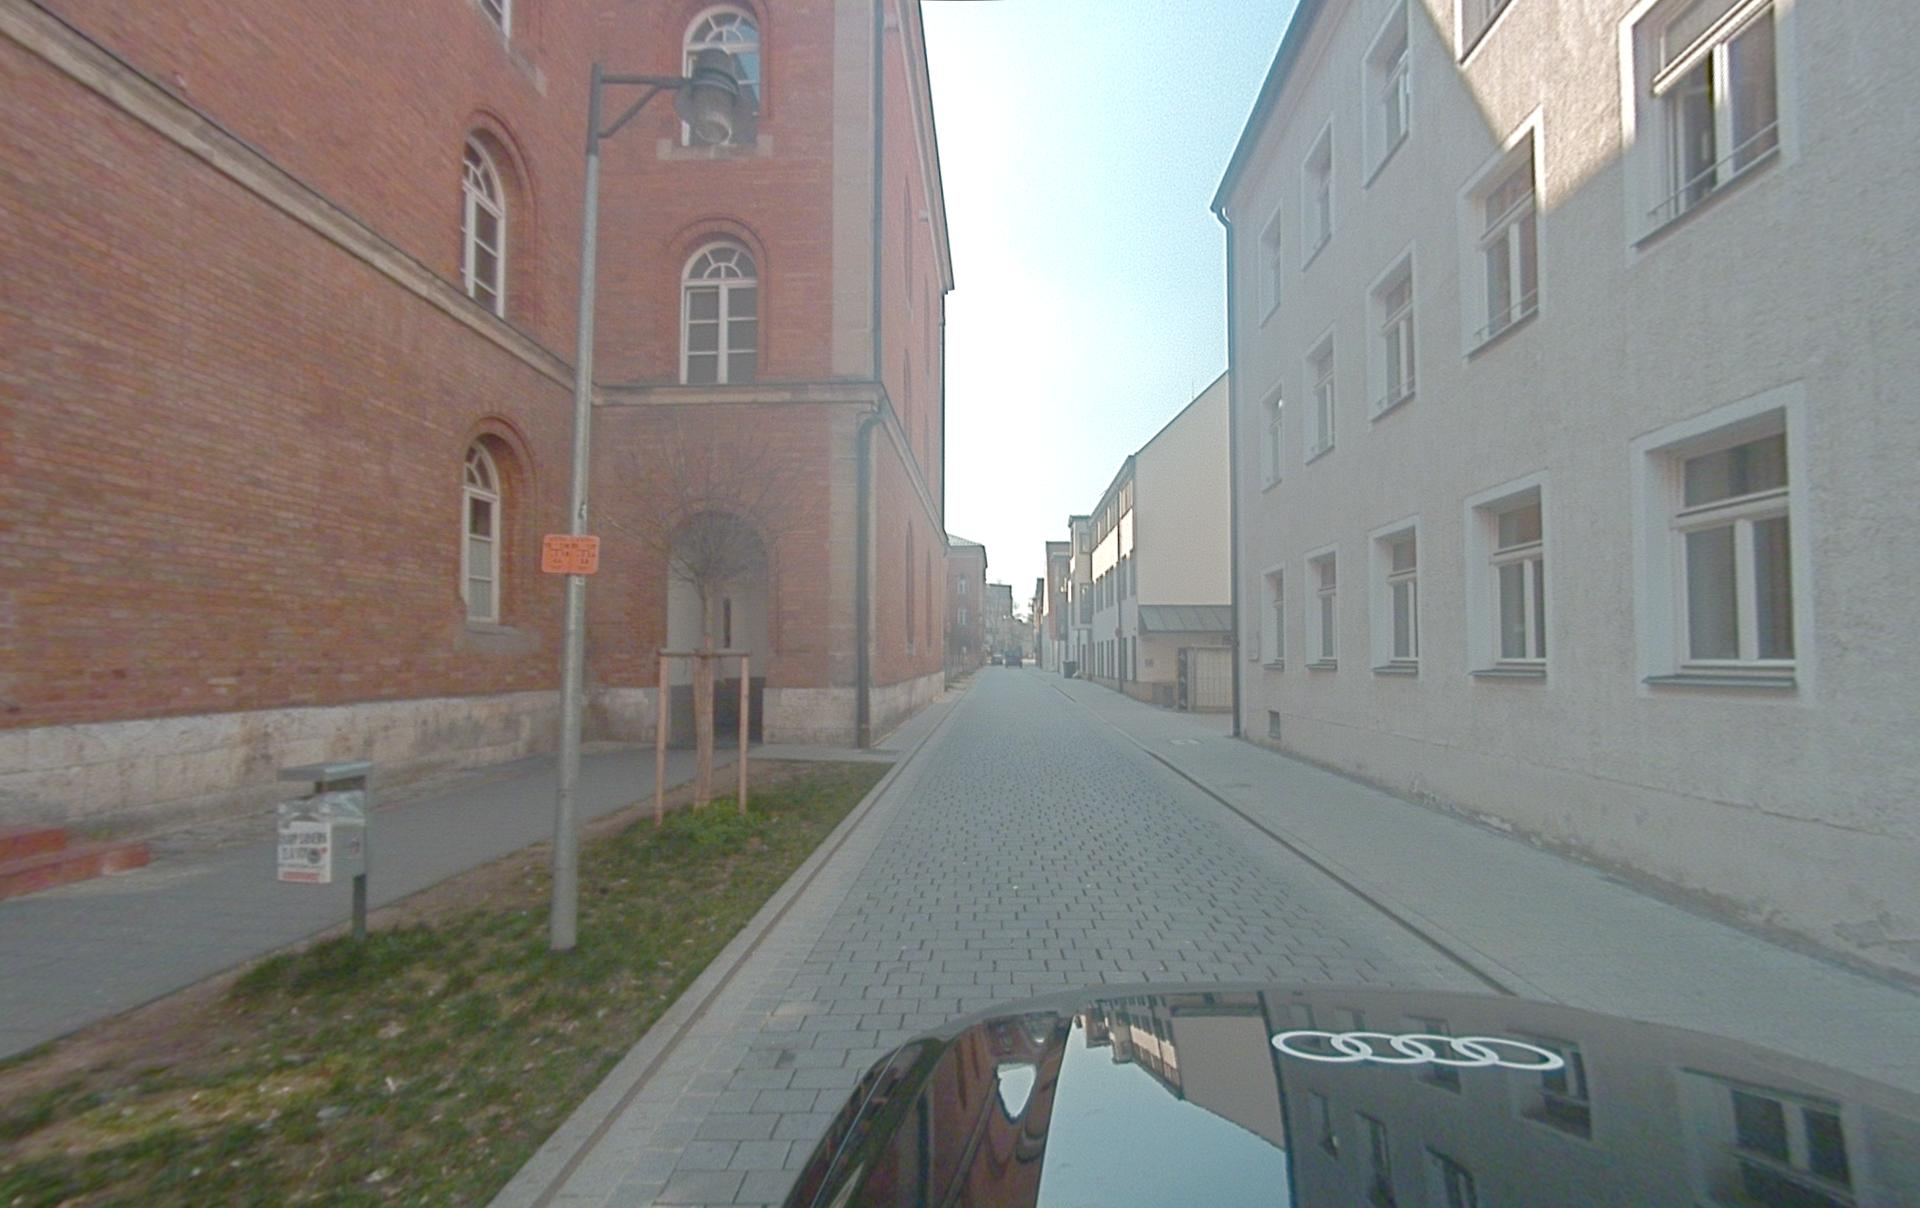car: (781, 980, 1919, 1207)
traffic sign: (541, 533, 600, 575)
